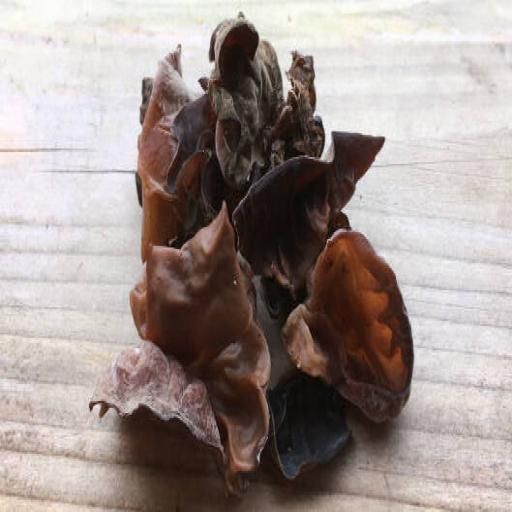Wood Ear Mushroom: (74, 8, 428, 499)
